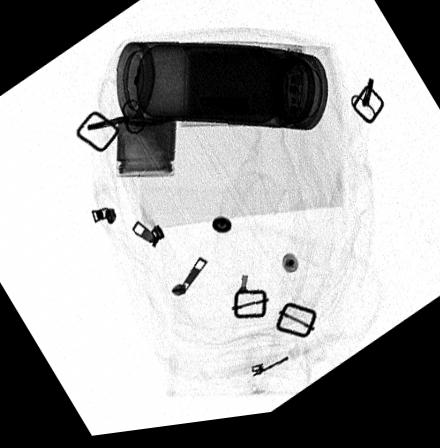Powerbank: (180, 49, 313, 135)
